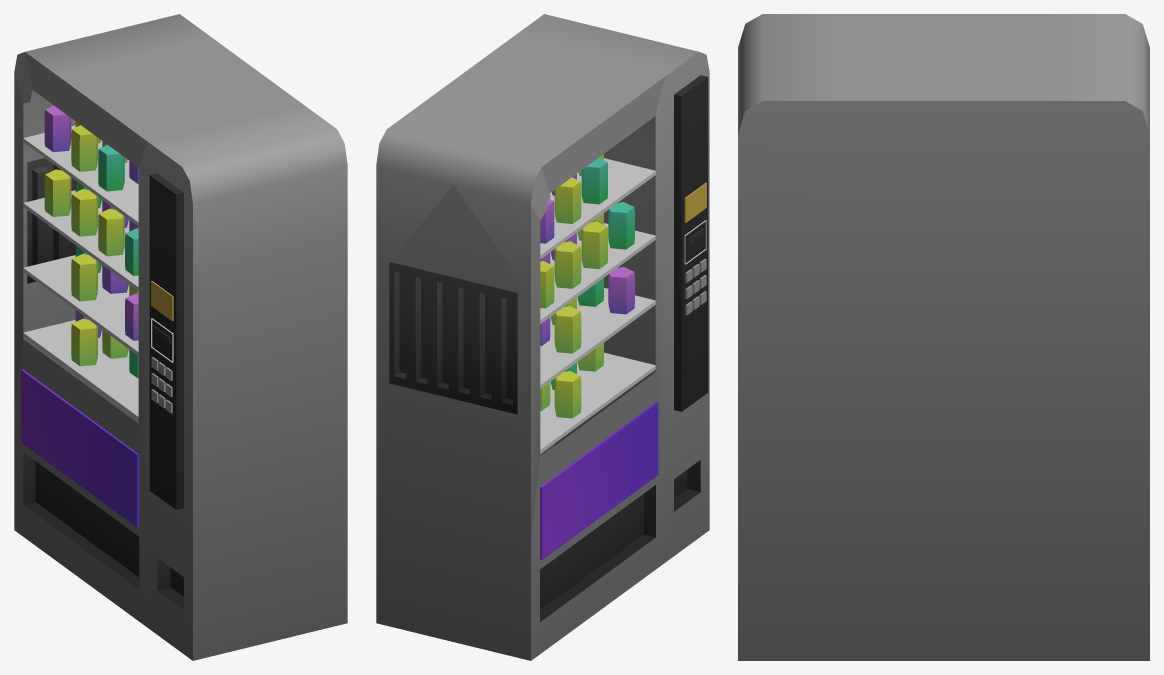
The model's file is VendingMachine_1.fbx.
The picture shows the model from 3 angles, left to right: view 1: azimuth 30°, elevation 25°; view 2: azimuth 150°, elevation 25°; view 3: azimuth 270°, elevation 25°; orthographic projection. The views are drawn at different scales.
Visible parts, largest first — view 1: Cube.075; view 2: Cube.075; view 3: Cube.075.
Boxes of the visible parts, bbox=[...] form: Cube.075: bbox=[14, 14, 347, 660]; Cube.075: bbox=[376, 14, 709, 660]; Cube.075: bbox=[738, 14, 1149, 660].
Bounding box in the file's own units: 106 × 300 × 200.
